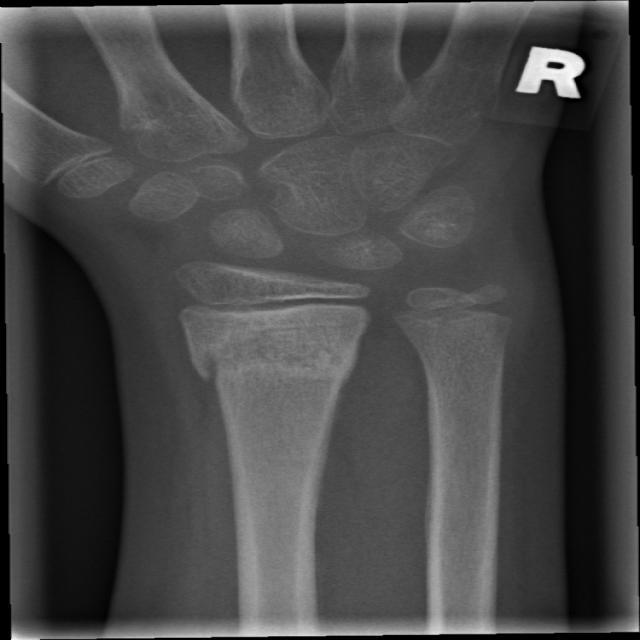radius fracture: (143, 314, 397, 428)
